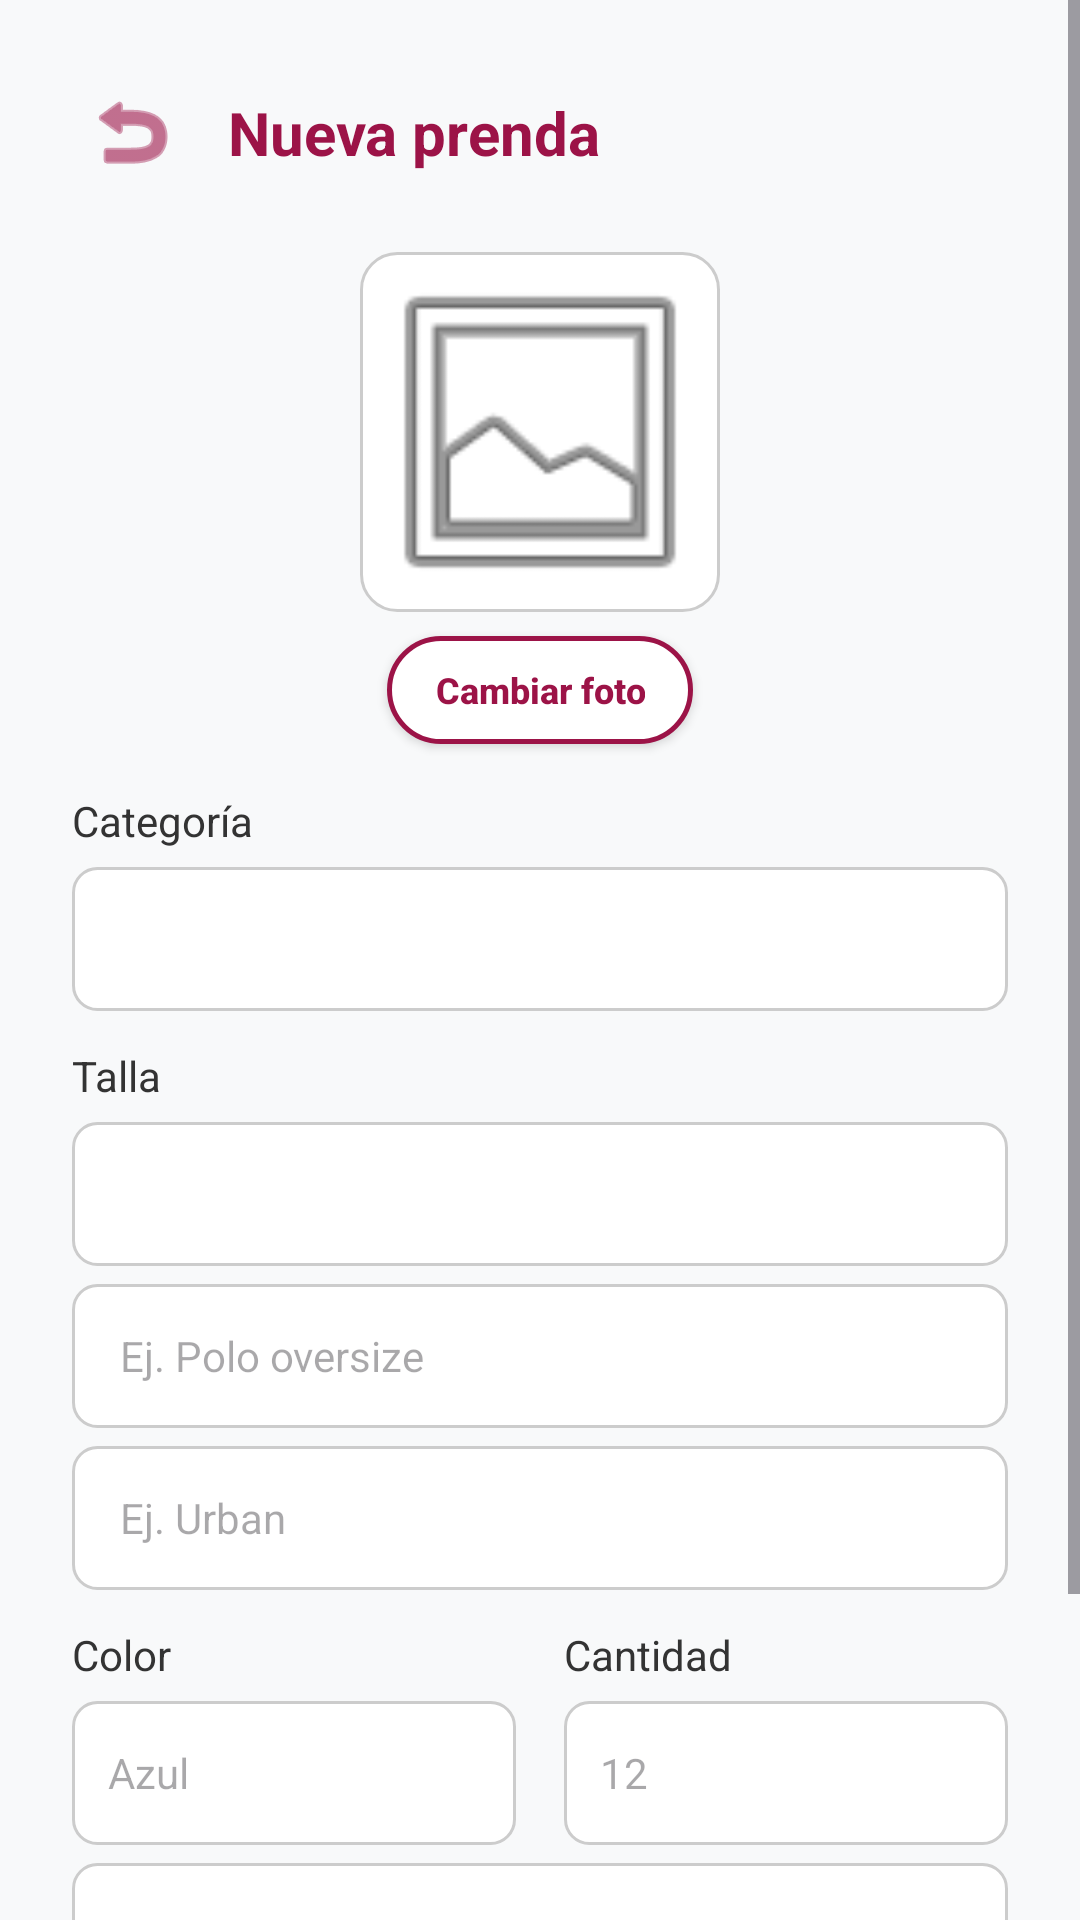

Screen size 1080w x 1920h. Icon name, then its center in pixels as (x=x, y=y):
gallery: (x=540, y=432)
revert: (x=133, y=132)
